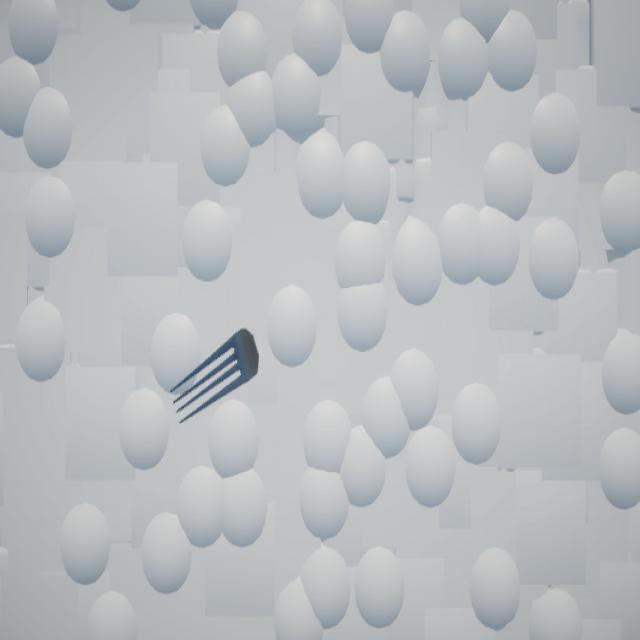top_folk: (171, 329, 261, 426)
